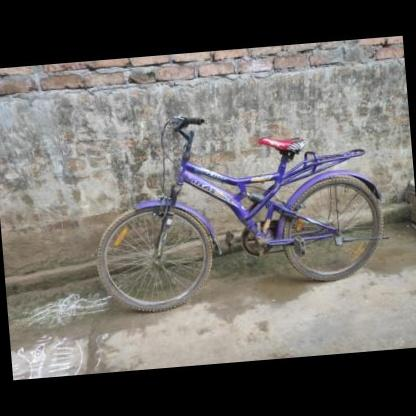Bicycle: (70, 98, 395, 326)
